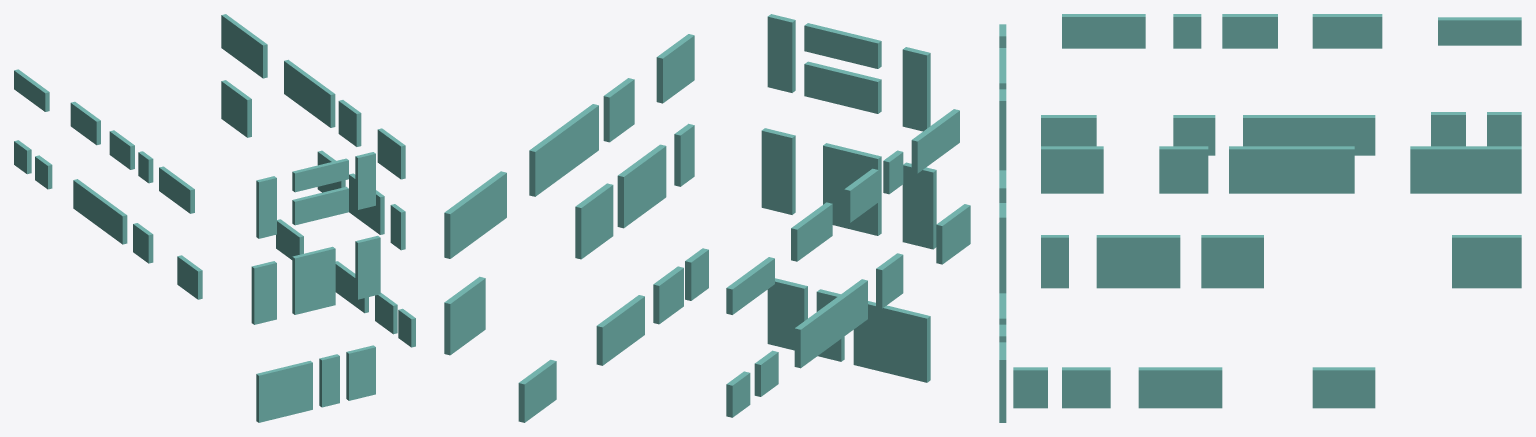
The model's file is Street1-8.obj.
The picture shows the model from 3 angles, left to right: view 1: azimuth 30°, elevation 25°; view 2: azimuth 150°, elevation 25°; view 3: azimuth 270°, elevation 25°; orthographic projection. The views are drawn at different scales.
Size of the model in its own units: 4.7 by 5.1 by 7.5.
Materials: 1 (1 with a texture image).
